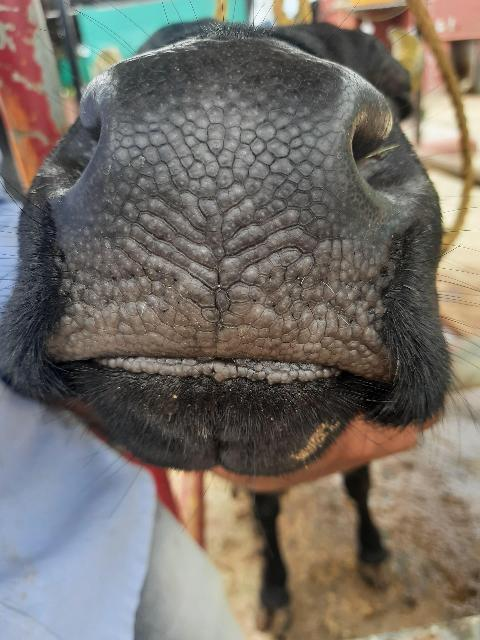Muzzle: (75, 65, 383, 368)
